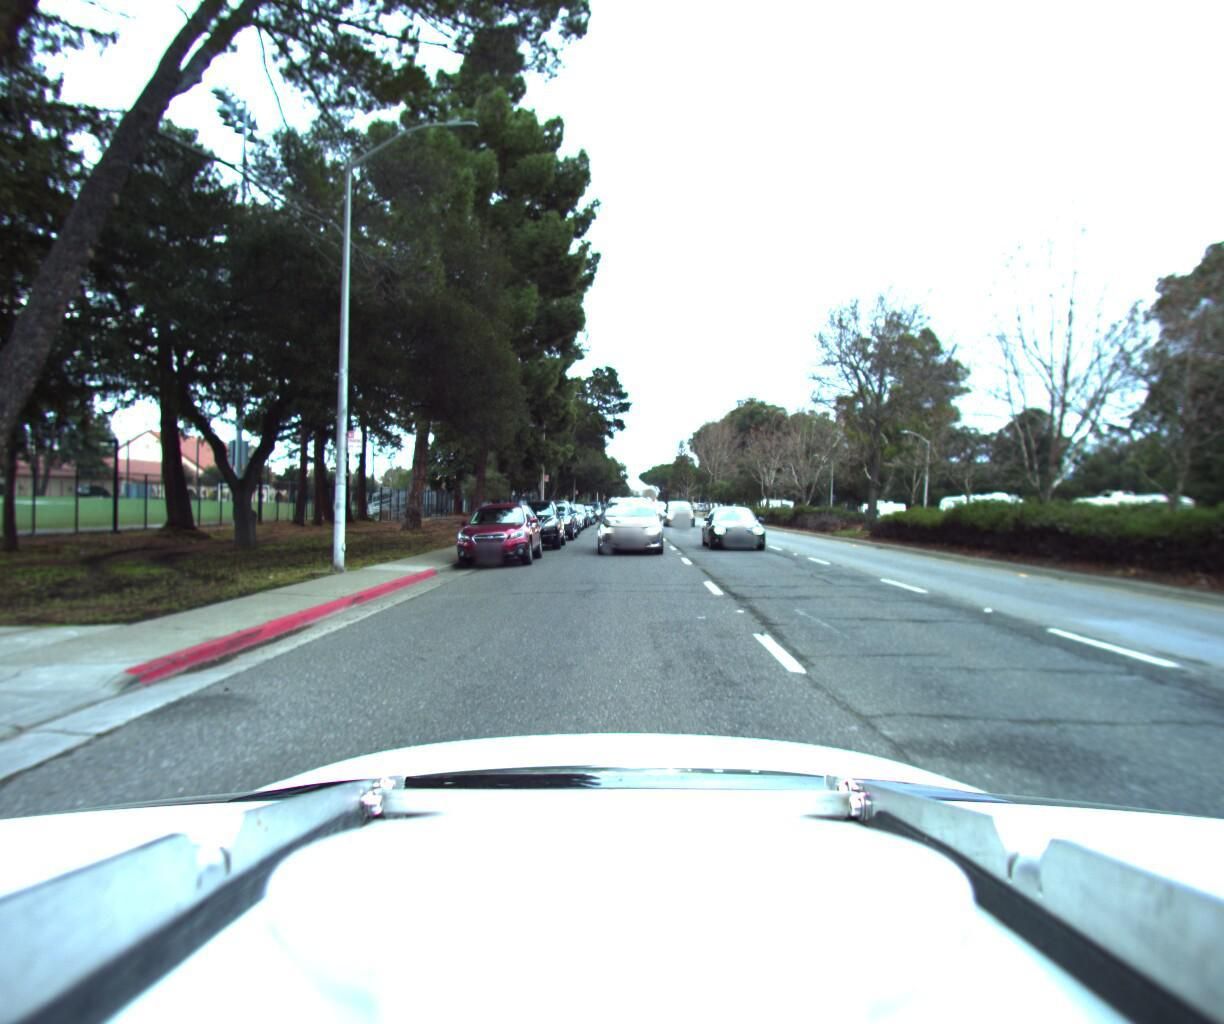car: (447, 494, 544, 567), (595, 484, 665, 550), (497, 493, 565, 548), (699, 501, 772, 549), (525, 490, 575, 534), (667, 490, 699, 521)
other_vehicle: (1052, 481, 1200, 548), (928, 483, 1029, 537), (856, 492, 909, 522)
